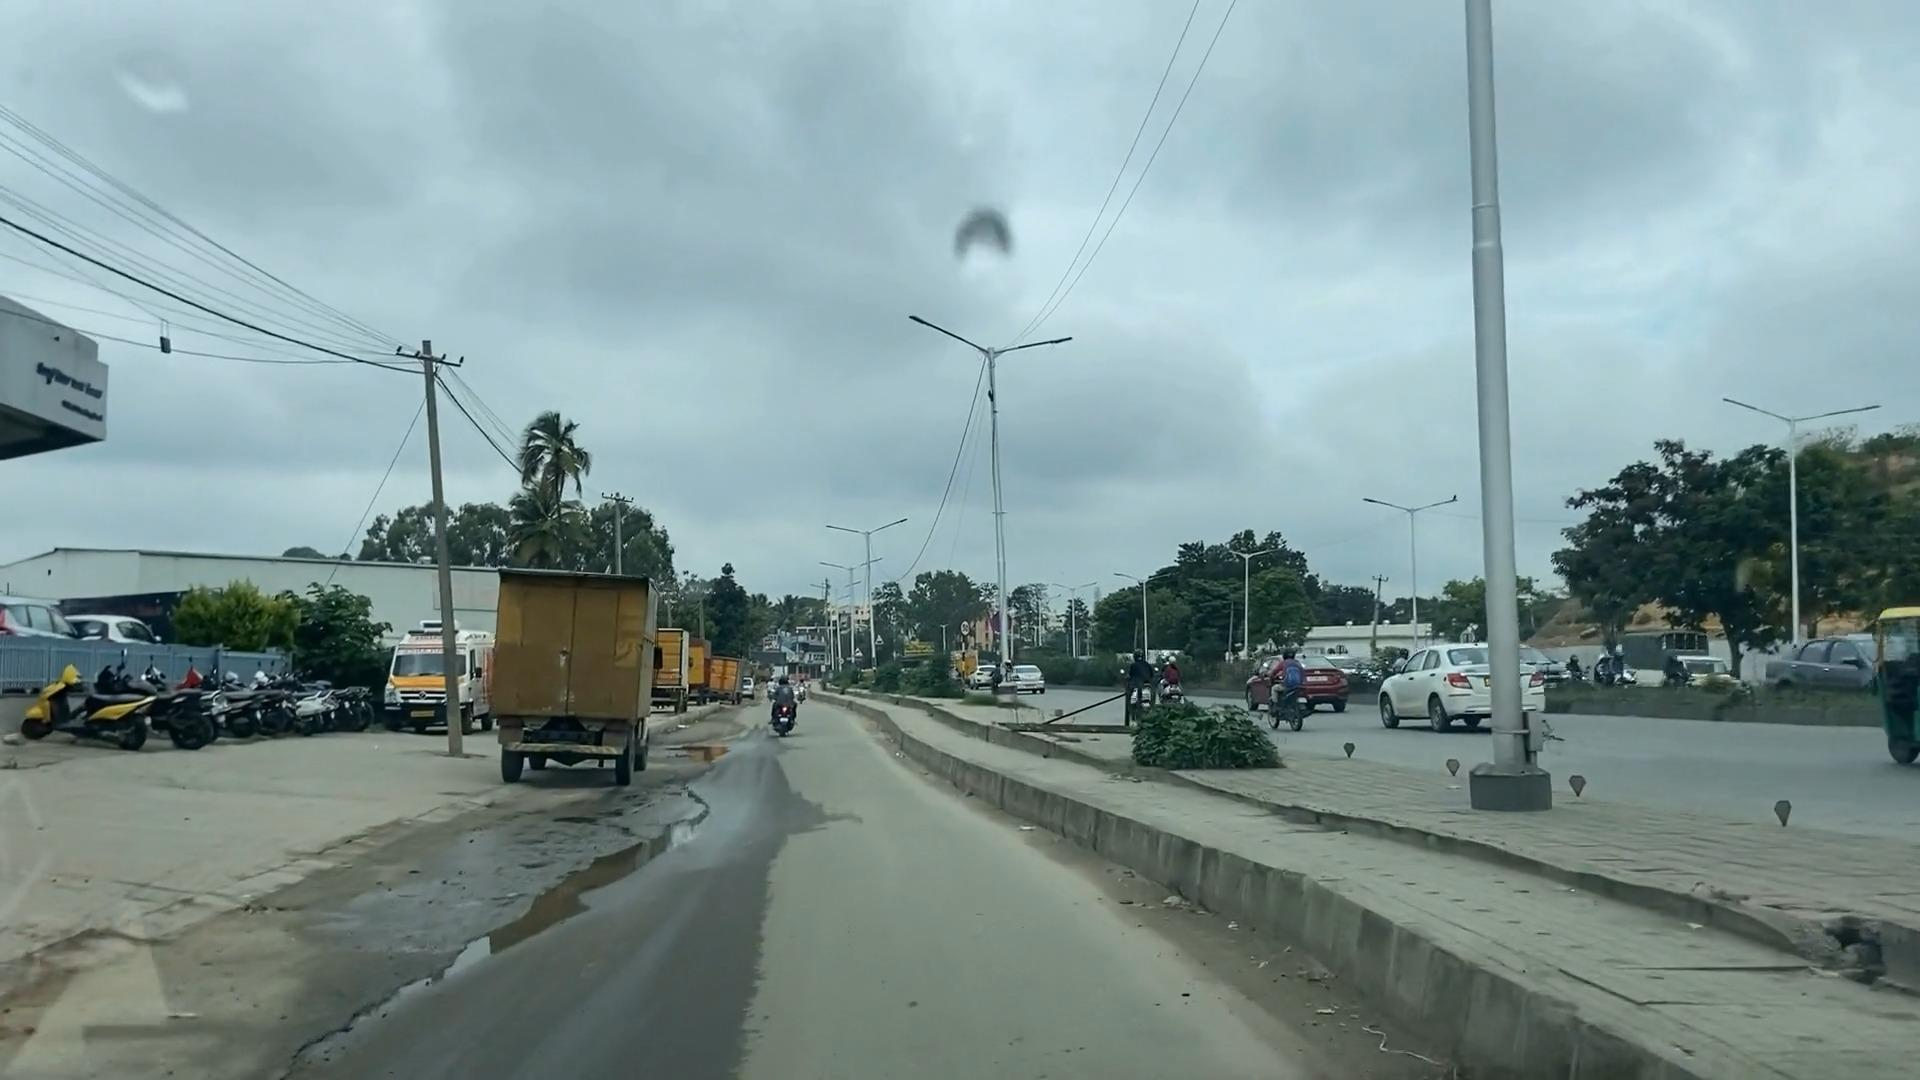HMV: (497, 570, 645, 778)
